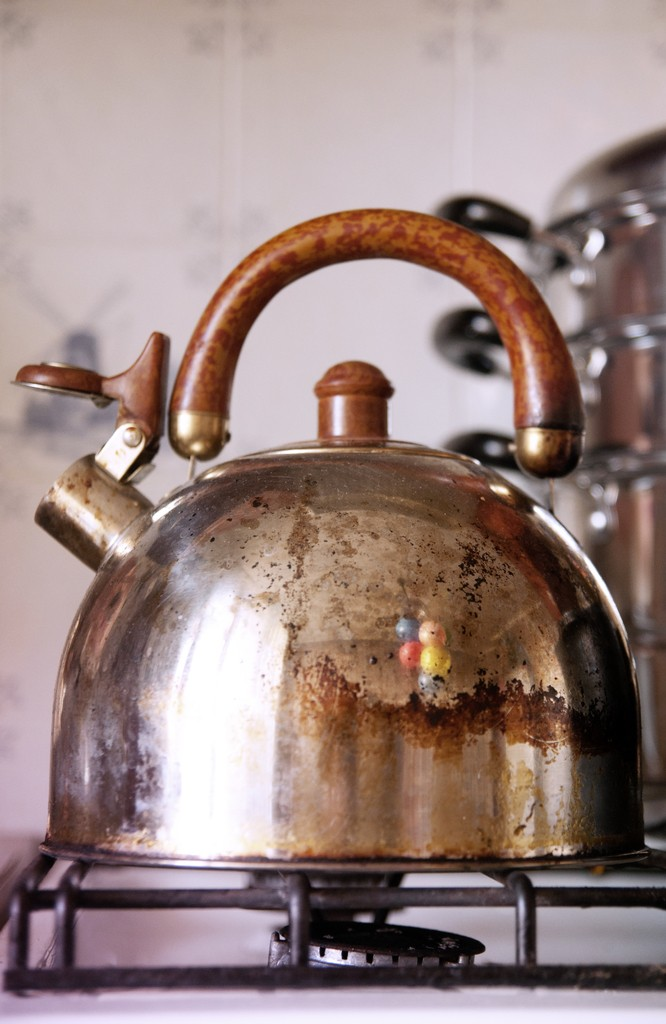teapot: (10, 208, 651, 871)
